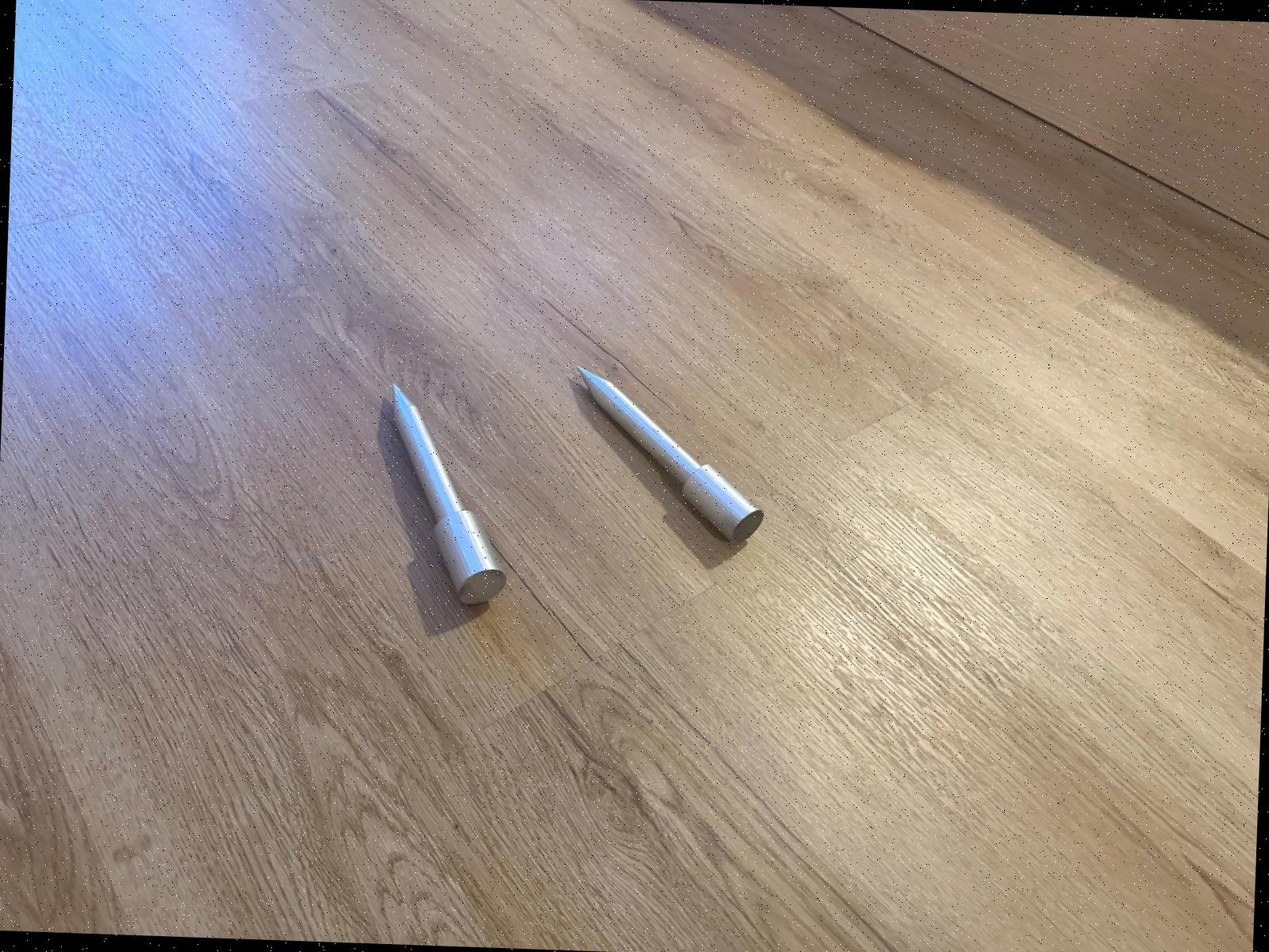probes: (573, 366, 769, 541), (579, 366, 763, 540), (387, 385, 512, 605)
